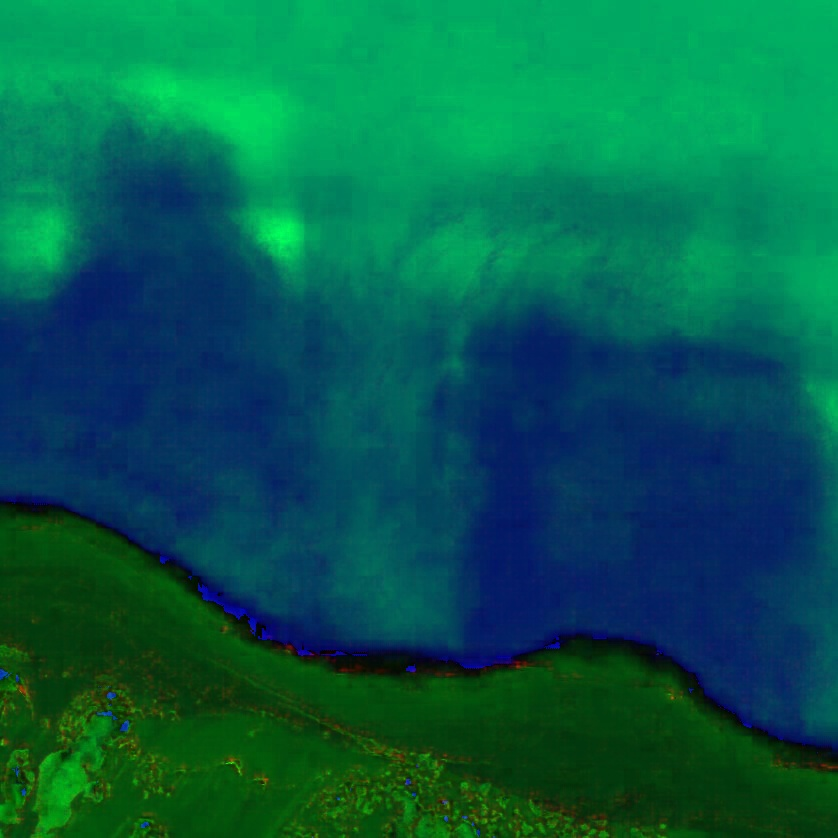rip_current: (235, 144, 511, 641)
